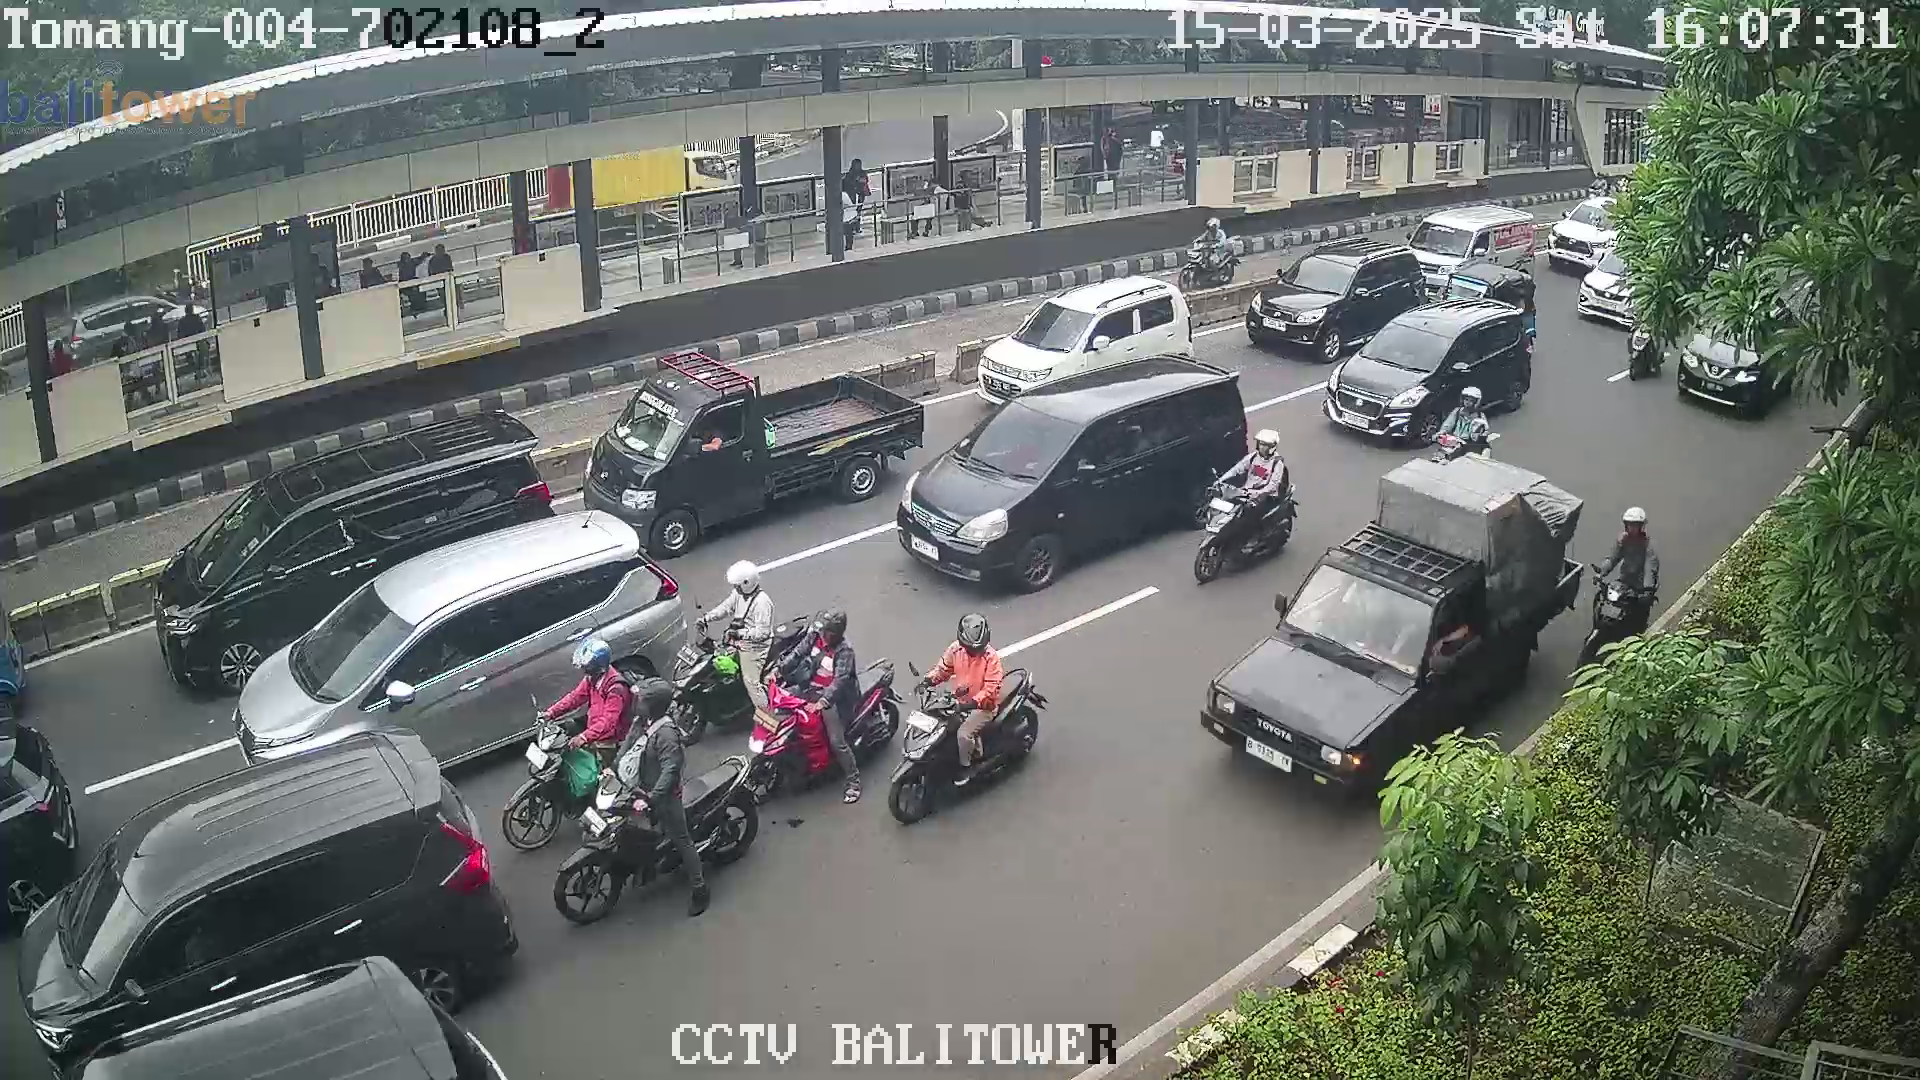half-face helmet: (627, 676, 682, 731), (566, 626, 615, 684), (1451, 376, 1498, 431), (955, 602, 1002, 655), (1239, 420, 1286, 473), (719, 561, 768, 608), (804, 608, 857, 651), (1619, 502, 1655, 543), (1202, 208, 1225, 237)
